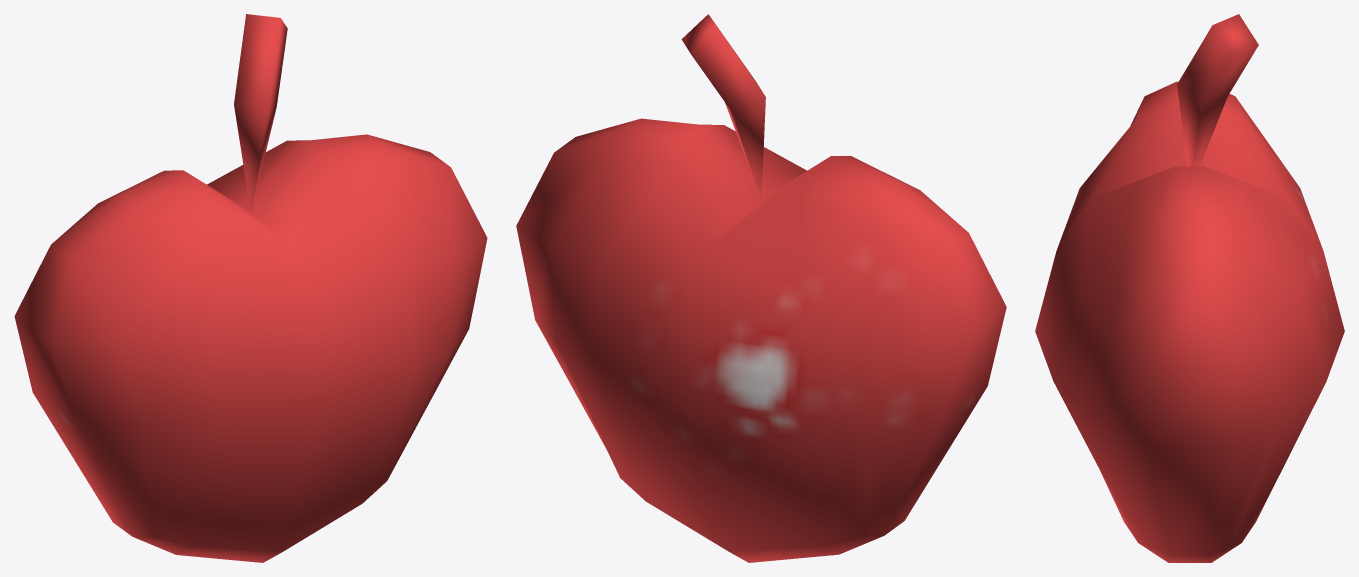
File: Apfel.fbx
3 renders of one model, left to right at view 1: azimuth 30°, elevation 25°; view 2: azimuth 150°, elevation 25°; view 3: azimuth 270°, elevation 25°, orthographic. The views are drawn at different scales.
Parts seen in each view (by area): view 1: Apfel; view 2: Apfel; view 3: Apfel.
Boxes of the visible parts, x1,y1,x2,y2 form: Apfel: (14,14,487,562); Apfel: (516,14,1006,562); Apfel: (1035,14,1344,562).
Bounding box in the file's own units: 0.9264 × 1.06 × 0.5449.
Materials: 1 (1 with a texture image).
